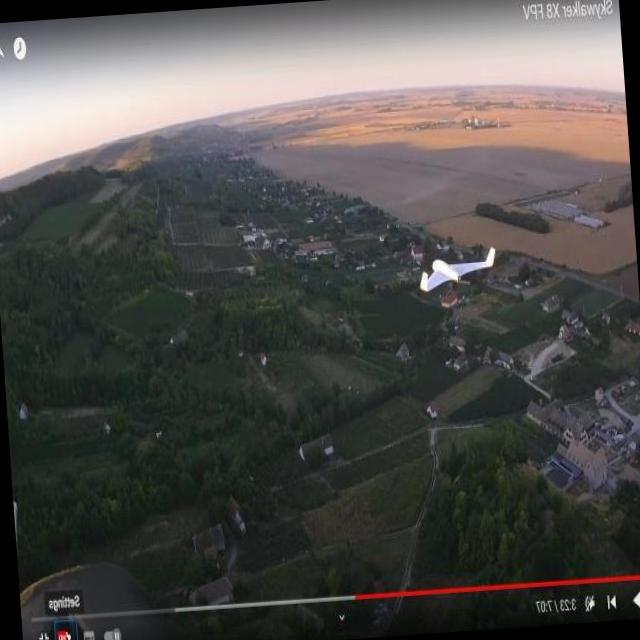UAV: (402, 226, 498, 302)
